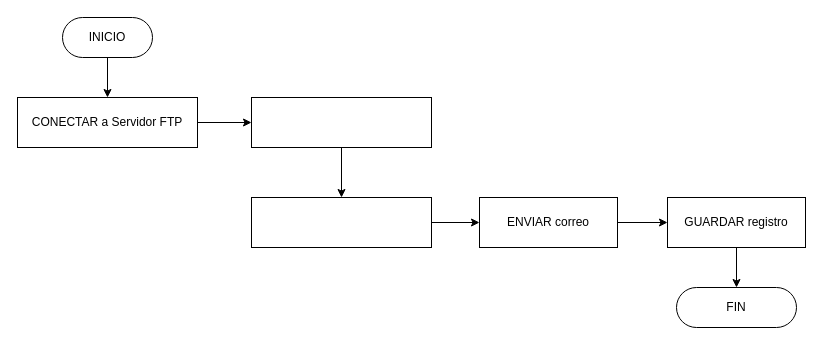
Image size: 823x345. Some labels were removed from this diagram. The box of each missing label's shape, as (x1, y1, x2, y2) in pixels:
ACTUALIZAR productos: (250, 196, 432, 248)
TRANSFERIR archivo: (250, 96, 432, 148)
